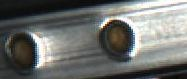joints: (0, 28, 45, 74), (97, 16, 138, 60)
